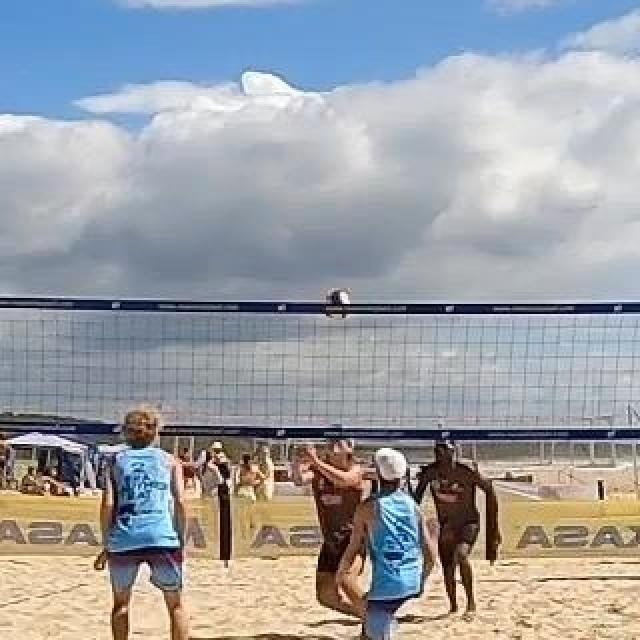volleyball: (324, 289, 352, 321)
